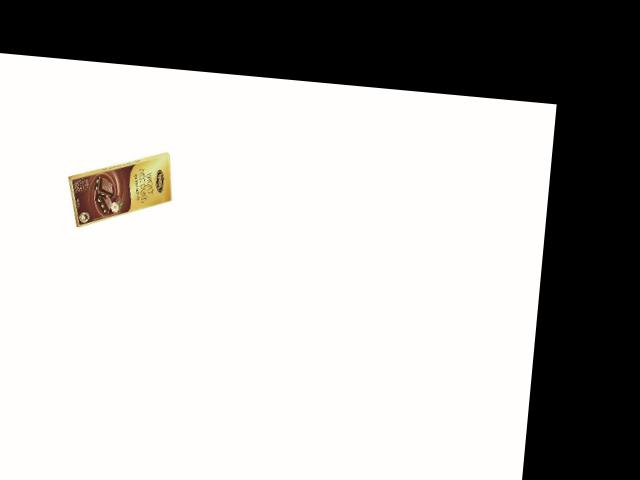chocolate: (54, 139, 176, 235)
